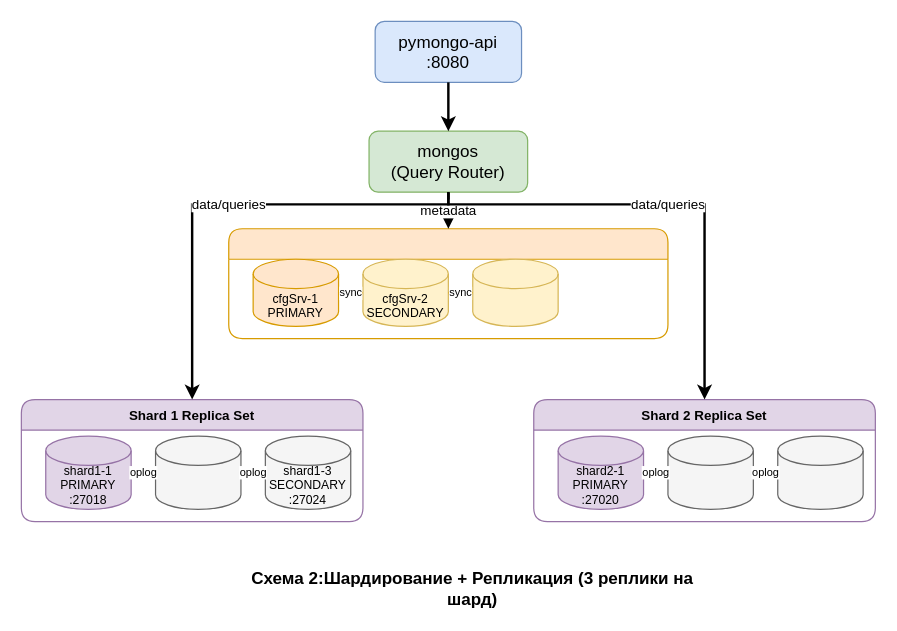
Some shapes in this 897 by 631 pixel diagram are drawn without their labels. The box of each missing label's shape, as (x1, y1, x2, y2) in pixels:
cfgSrv-3 SECONDARY: (472, 258, 558, 326)
Config Server Replica Set: (228, 228, 668, 339)
shard1-2 SECONDARY :27021: (154, 435, 241, 509)
shard2-2 SECONDARY :27022: (667, 435, 753, 509)
shard2-3 SECONDARY :27025: (777, 435, 863, 509)
